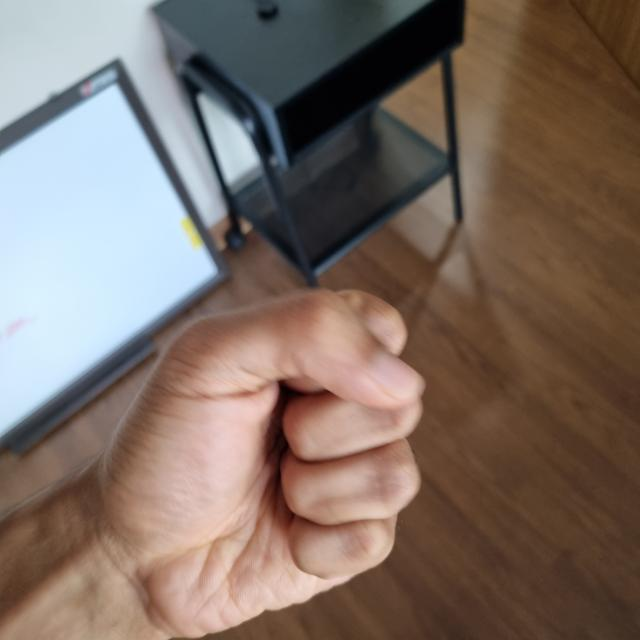Rock: (108, 292, 419, 635)
